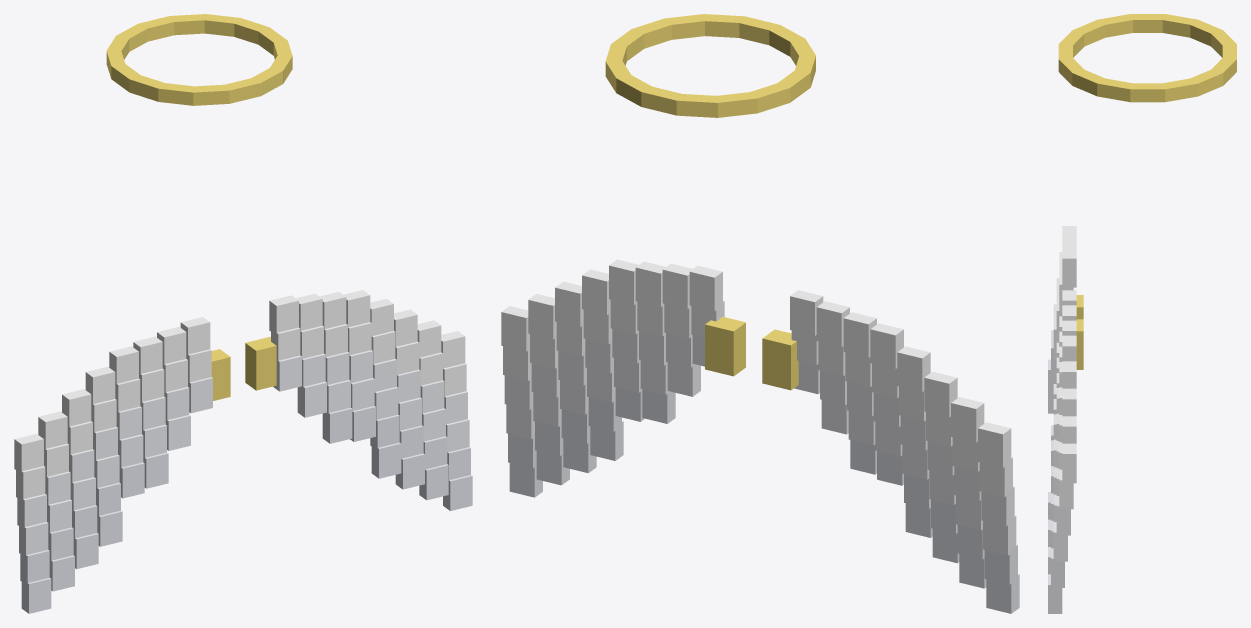
Rendered from asas_anjo_grandes.glb.
3 renders of one model, left to right at view 1: azimuth 30°, elevation 25°; view 2: azimuth 150°, elevation 25°; view 3: azimuth 270°, elevation 25°, orthographic. The views are drawn at different scales.
Parts seen in each view (by area): view 1: asas_anjo_grandes; view 2: asas_anjo_grandes; view 3: asas_anjo_grandes.
Part boxes in pixels (bbox=[...]): asas_anjo_grandes: bbox=[14, 14, 472, 613]; asas_anjo_grandes: bbox=[501, 14, 1019, 613]; asas_anjo_grandes: bbox=[1048, 14, 1236, 613].
Bounding box in the file's own units: 1.4 × 1.41 × 0.5301.
